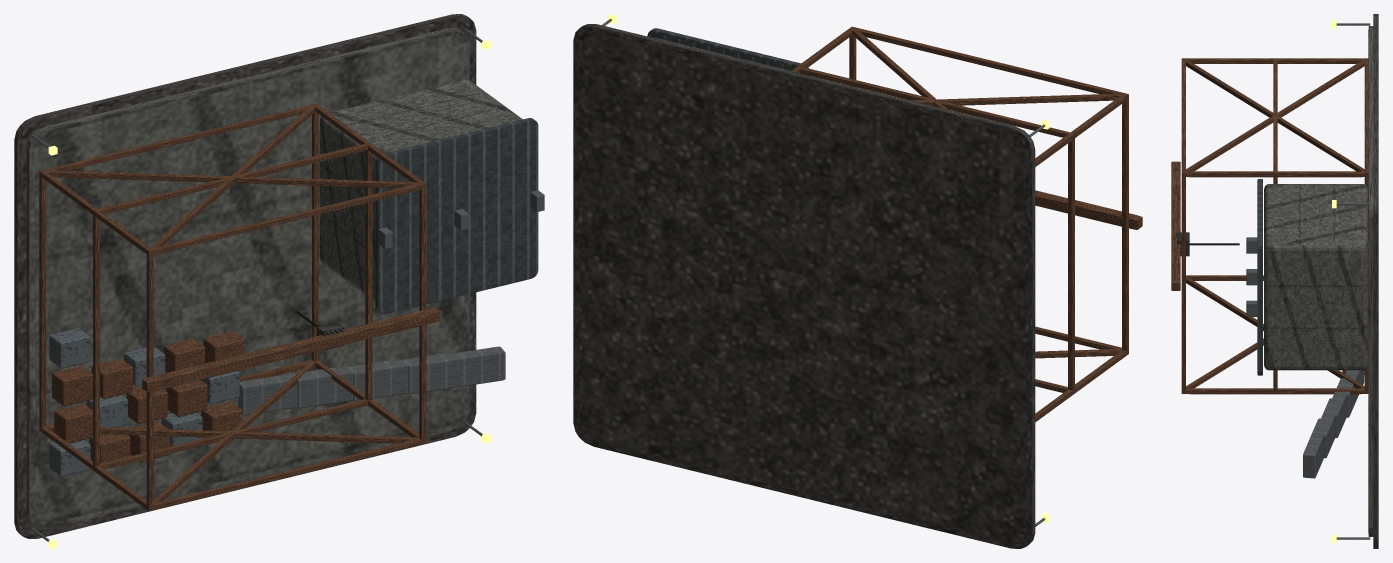
File: b-47-salvage-yard-lod0.glb
3 views of the same model, side by side, from view 1: azimuth 30°, elevation 25°; view 2: azimuth 150°, elevation 25°; view 3: azimuth 270°, elevation 25° (orthographic). The views are drawn at different scales.
Parts seen in each view (by area): view 1: foundation_inner_pad, crusher_hall_roof, foundation, crusher_hall_main_hall, primary_salvage_gantry_bridge, salvage_conveyor_3, primary_salvage_gantry_brace_a_4.25, primary_salvage_gantry_brace_a_-4.25, primary_salvage_gantry_beam_x_2_n, primary_salvage_gantry_beam_x_2_s, primary_salvage_gantry_beam_x_1_n, salvage_conveyor_1 (+32 smaller); view 2: foundation, primary_salvage_gantry_beam_x_2_n, primary_salvage_gantry_beam_x_1_n, primary_salvage_gantry_beam_y_2_w, primary_salvage_gantry_beam_y_1_w, crusher_hall_roof, primary_salvage_gantry_bridge, primary_salvage_gantry_brace_b_4.25, primary_salvage_gantry_column_w_n, primary_salvage_gantry_brace_a_4.25, primary_salvage_gantry_column_w_s; view 3: crusher_hall_main_hall, foundation, foundation_inner_pad, primary_salvage_gantry_brace_b_4.25, primary_salvage_gantry_brace_a_4.25, primary_salvage_gantry_bridge, primary_salvage_gantry_column_e_n, primary_salvage_gantry_column_e_s, crusher_hall_roof, primary_salvage_gantry_beam_y_2_e, primary_salvage_gantry_column_w_n, salvage_conveyor_3 (+10 smaller).
Part boxes in pixels (<box>): foundation_inner_pad: <box>26,28,469,529</box>; crusher_hall_roof: <box>375,118,538,314</box>; foundation: <box>14,14,476,538</box>; crusher_hall_main_hall: <box>319,79,522,301</box>; primary_salvage_gantry_bridge: <box>142,308,439,392</box>; salvage_conveyor_3: <box>408,346,505,394</box>; primary_salvage_gantry_brace_a_4.25: <box>46,170,418,188</box>; primary_salvage_gantry_brace_a_-4.25: <box>46,425,418,443</box>; primary_salvage_gantry_beam_x_2_n: <box>146,183,426,255</box>; primary_salvage_gantry_beam_x_2_s: <box>146,438,426,510</box>; primary_salvage_gantry_beam_x_1_n: <box>93,143,367,215</box>; salvage_conveyor_1: <box>297,360,389,408</box>; foundation: <box>573,24,1035,548</box>; primary_salvage_gantry_beam_x_2_n: <box>854,27,1128,100</box>; primary_salvage_gantry_beam_x_1_n: <box>800,67,1070,137</box>; primary_salvage_gantry_beam_y_2_w: <box>1122,93,1128,351</box>; primary_salvage_gantry_beam_y_1_w: <box>1068,132,1074,390</box>; crusher_hall_roof: <box>647,28,808,70</box>; primary_salvage_gantry_bridge: <box>1035,190,1142,229</box>; primary_salvage_gantry_brace_b_4.25: <box>910,93,1121,106</box>; primary_salvage_gantry_column_w_n: <box>1035,95,1126,166</box>; primary_salvage_gantry_brace_a_4.25: <box>852,29,948,109</box>; primary_salvage_gantry_column_w_s: <box>1035,350,1126,422</box>; crusher_hall_main_hall: <box>1264,184,1367,370</box>; foundation: <box>1373,14,1378,548</box>; foundation_inner_pad: <box>1368,26,1373,536</box>; primary_salvage_gantry_brace_b_4.25: <box>1186,60,1364,171</box>; primary_salvage_gantry_brace_a_4.25: <box>1186,60,1364,171</box>; primary_salvage_gantry_bridge: <box>1171,161,1180,290</box>; primary_salvage_gantry_column_e_n: <box>1185,171,1364,177</box>; primary_salvage_gantry_column_e_s: <box>1186,388,1364,394</box>; crusher_hall_roof: <box>1257,179,1262,375</box>; primary_salvage_gantry_beam_y_2_e: <box>1181,171,1185,390</box>; primary_salvage_gantry_column_w_n: <box>1186,58,1364,63</box>; salvage_conveyor_3: <box>1303,418,1325,478</box>.
Size of what is drawn, in the model's own units: 16 by 14 by 7.37.
Materials: 9 (9 with a texture image).
